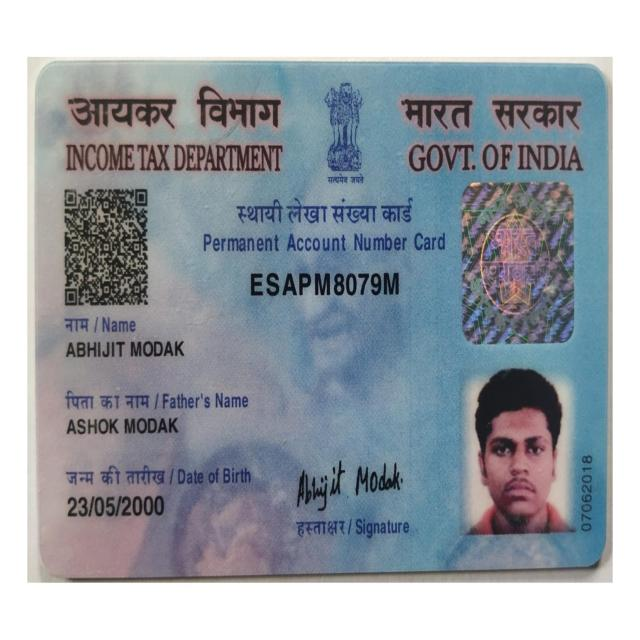pan_card: (39, 64, 603, 560)
